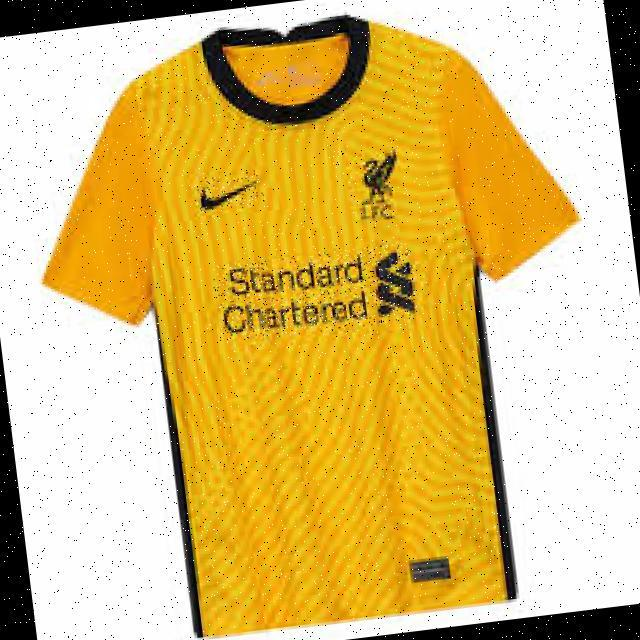Nike: (192, 169, 266, 213)
Standard Chartered: (211, 242, 420, 344)
